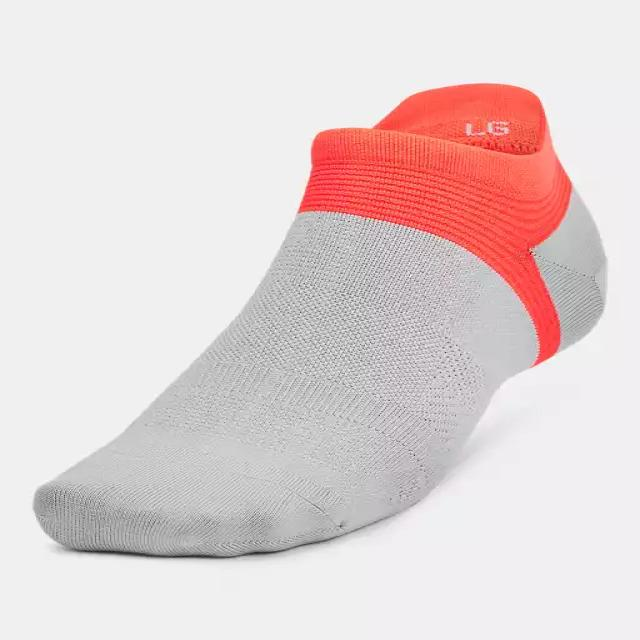sock: (31, 81, 608, 558)
